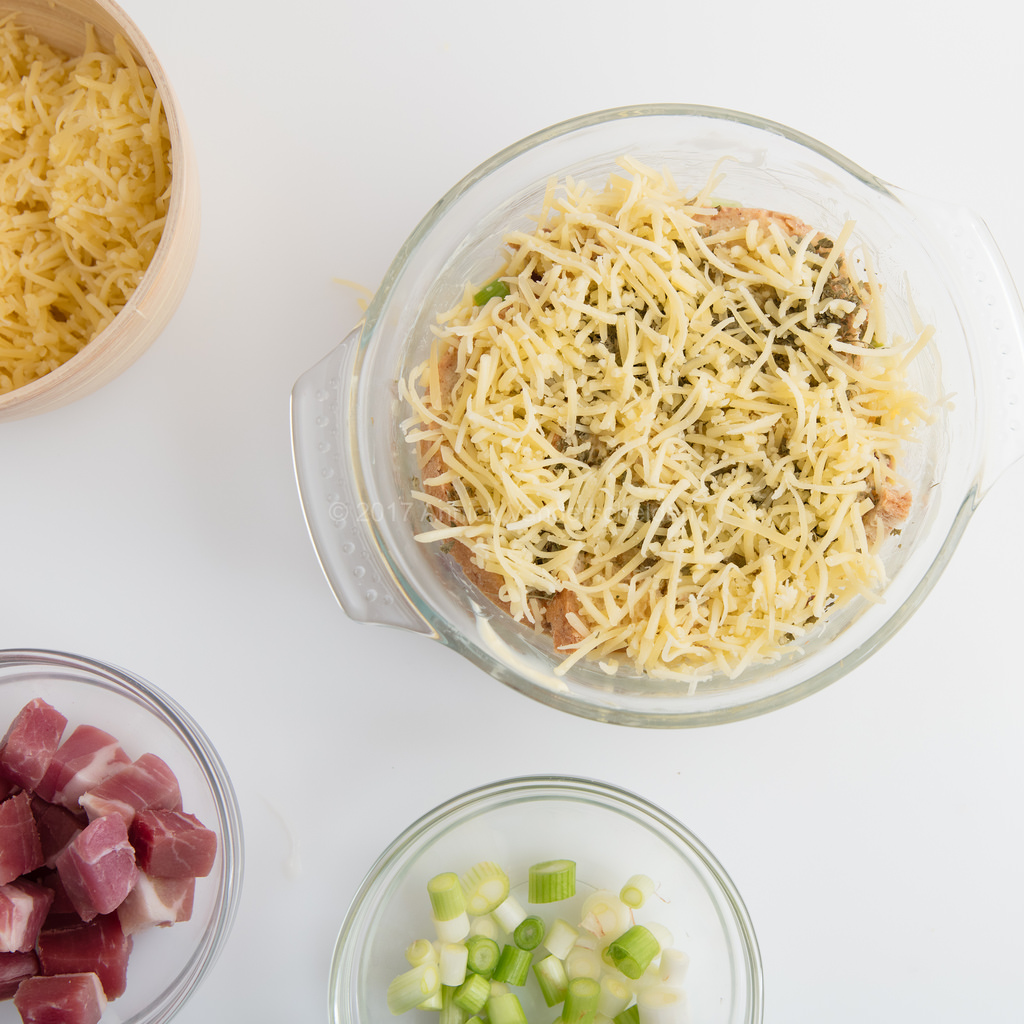plain spaghetti: (524, 307, 855, 599)
